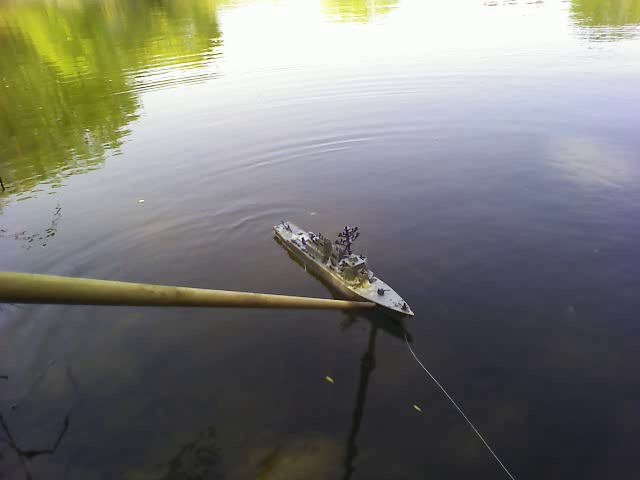warship: (277, 214, 424, 320)
